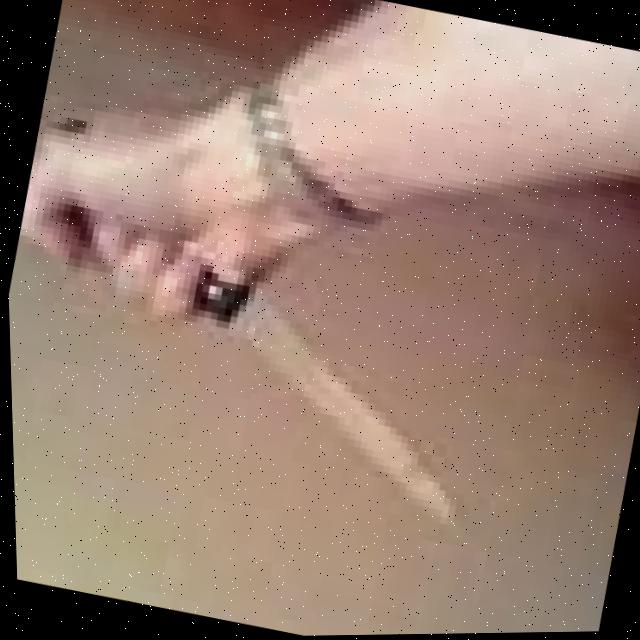knife: (147, 272, 496, 538)
